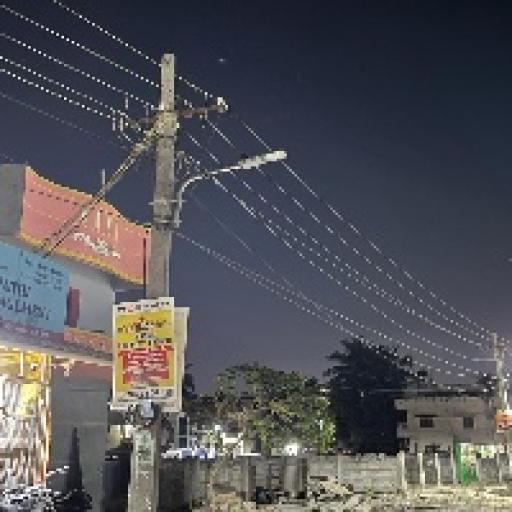Not Working: (224, 142, 291, 178)
